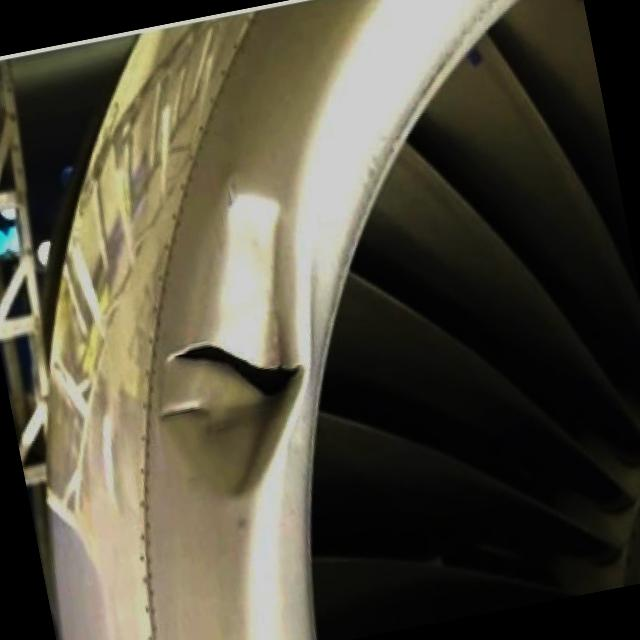crack: (160, 321, 314, 428)
